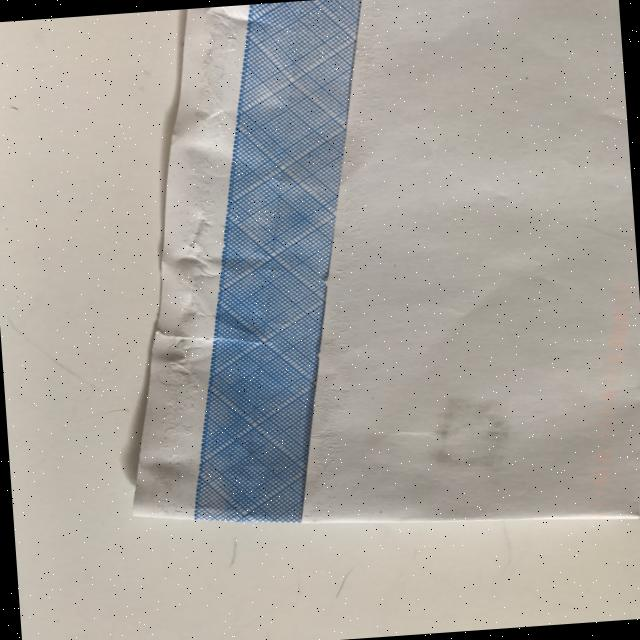paper: (96, 0, 640, 553)
